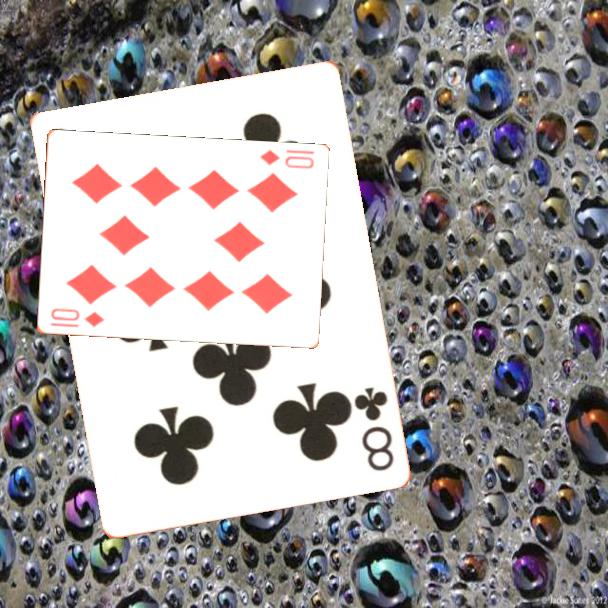c08: (350, 383, 396, 474)
d10: (256, 146, 317, 172), (47, 305, 107, 330)
